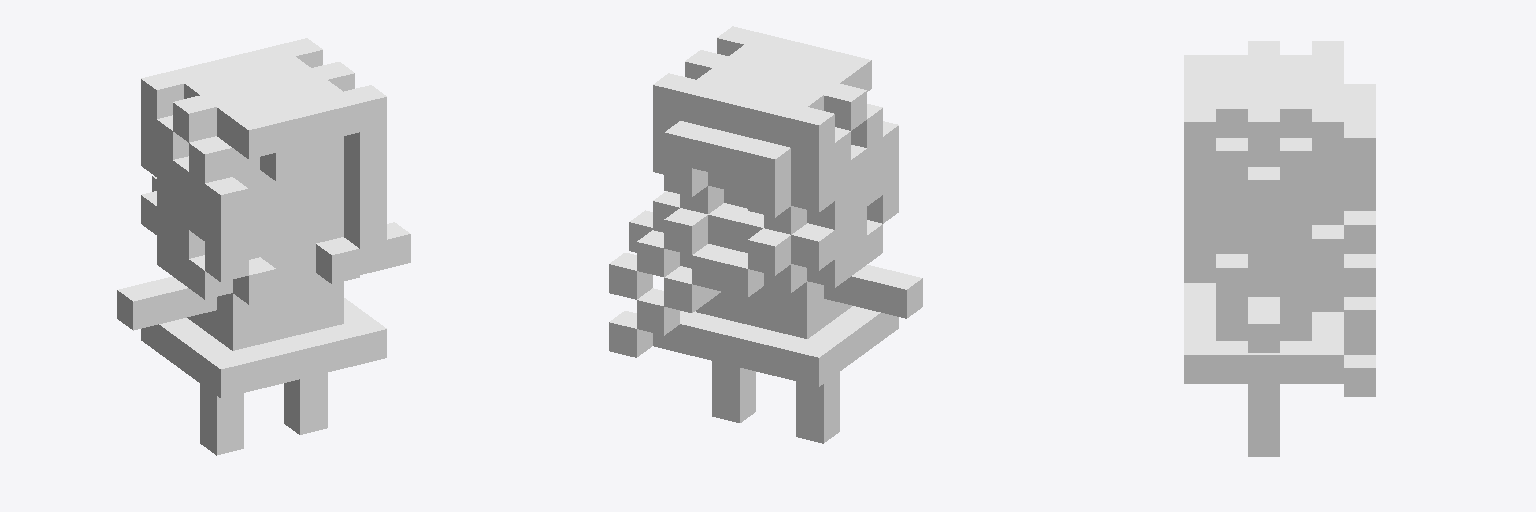
Rendered from mujerT.obj.
3 views of the same model, side by side, from view 1: azimuth 30°, elevation 25°; view 2: azimuth 150°, elevation 25°; view 3: azimuth 270°, elevation 25° (orthographic).
Parts seen in each view (by area): view 1: object 1; view 2: object 1; view 3: object 1.
Boxes of the visible parts, x1,y1,x2,y2 form: object 1: [117, 38, 410, 455]; object 1: [609, 26, 922, 443]; object 1: [1184, 41, 1375, 456].
Size of the model in its own units: 1 by 1.2 by 0.6.